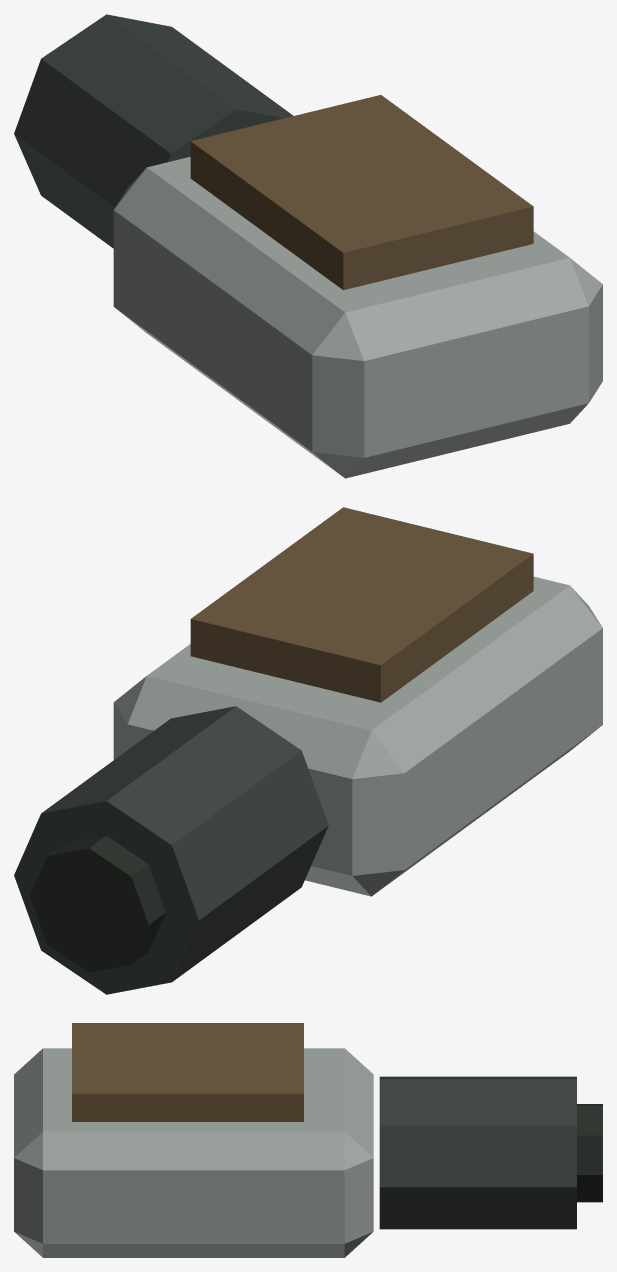
File: scorcher_weapon.obj
The picture shows the model from 3 angles, top to bottom: view 1: azimuth 30°, elevation 25°; view 2: azimuth 150°, elevation 25°; view 3: azimuth 270°, elevation 25°; orthographic projection. The views are drawn at different scales.
Parts seen in each view (by area): view 1: scorcher_weapon; view 2: scorcher_weapon; view 3: scorcher_weapon.
Boxes of the visible parts, box(x1,y1,x2,y2) form: scorcher_weapon: box(14, 14, 602, 478); scorcher_weapon: box(14, 507, 602, 994); scorcher_weapon: box(14, 1023, 602, 1257).
Bounding box in the file's own units: 0.22 × 0.16 × 0.5075.
